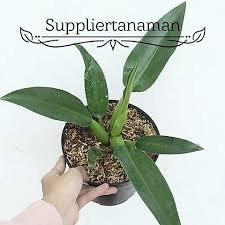ylang-ylang: (159, 79, 192, 130), (91, 69, 113, 93), (114, 65, 129, 90)
